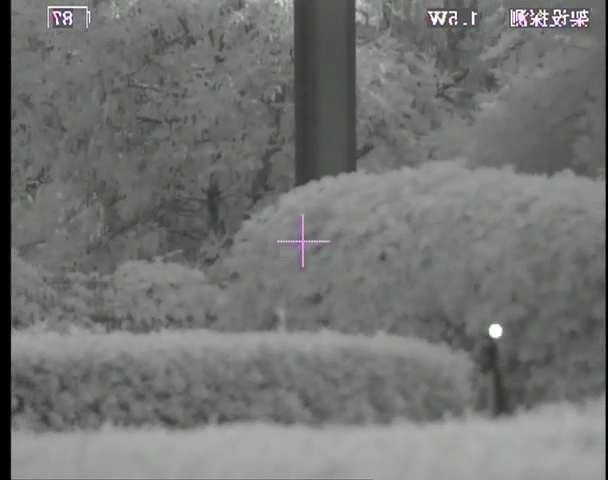my: (486, 322, 503, 340)
